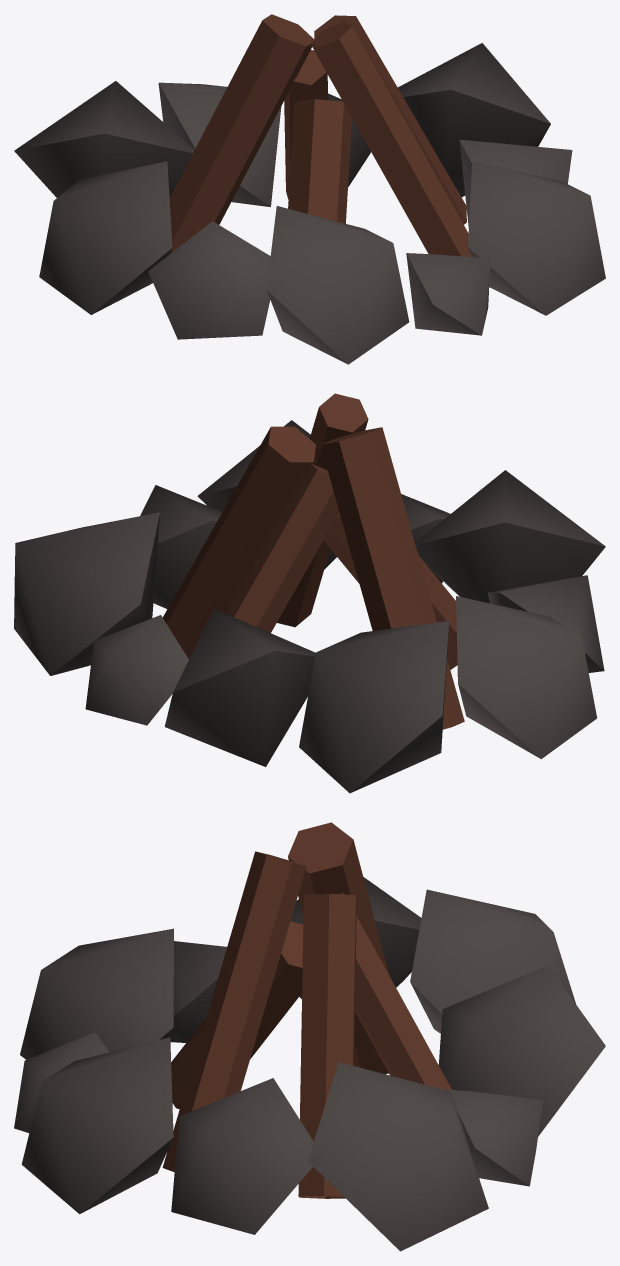
Rendered from campfire.fbx.
3 renders of one model, top to bottom at view 1: azimuth 30°, elevation 25°; view 2: azimuth 150°, elevation 25°; view 3: azimuth 270°, elevation 25°, orthographic. The views are drawn at different scales.
Parts seen in each view (by area): view 1: campfire; view 2: campfire; view 3: campfire.
Boxes of the visible parts, x1,y1,x2,y2 form: campfire: [14, 14, 605, 364]; campfire: [14, 393, 605, 793]; campfire: [14, 822, 605, 1251].
Bounding box in the file's own units: 7.15 × 3.52 × 6.45.
